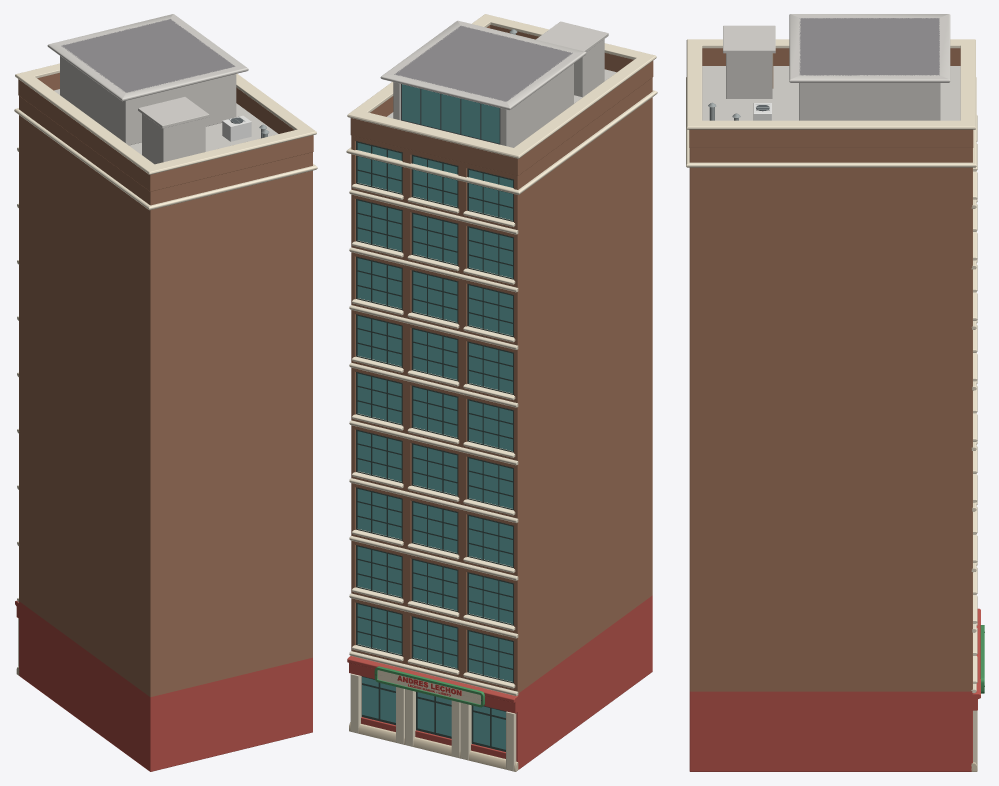
The model's file is far_loft_ph_10.glb.
The picture shows the model from 3 angles, left to right: view 1: azimuth 30°, elevation 25°; view 2: azimuth 150°, elevation 25°; view 3: azimuth 270°, elevation 25°; orthographic projection. The views are drawn at different scales.
Parts seen in each view (by area): view 1: shell, trim, penthouse, props; view 2: shell, trim, frames, penthouse, props, sign_andres_lechon, penthouse frames; view 3: shell, trim, penthouse, props.
Part boxes in pixels (x1,y1,x2,y2): shell: (19,89,312,771); trim: (14,14,317,675); penthouse: (60,19,236,145); props: (138,97,269,164); shell: (351,69,652,769); trim: (346,14,657,771); frames: (356,141,513,751); penthouse: (393,25,573,147); props: (509,21,608,97); sign_andres_lechon: (374,666,484,707); penthouse frames: (401,84,500,144); shell: (689,66,972,771); trim: (686,14,980,771); penthouse: (799,18,940,120); props: (708,25,775,120).
Bounding box in the file's own units: 10.36 × 37.22 × 14.77.
